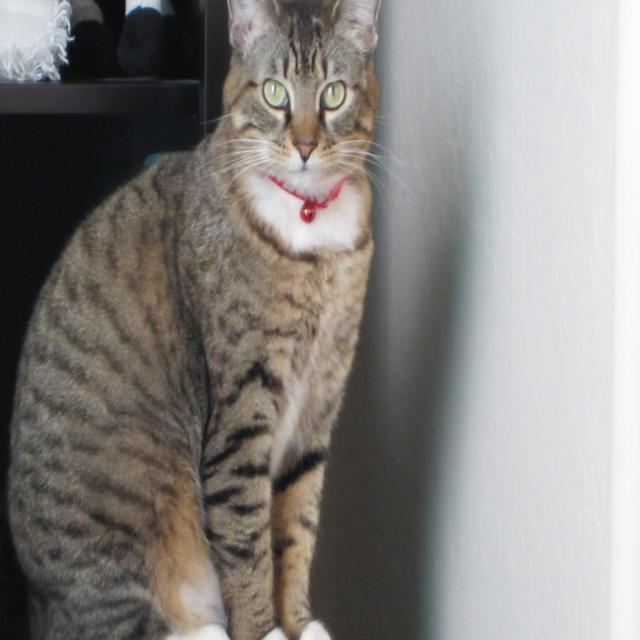Cat: (6, 0, 421, 639)
